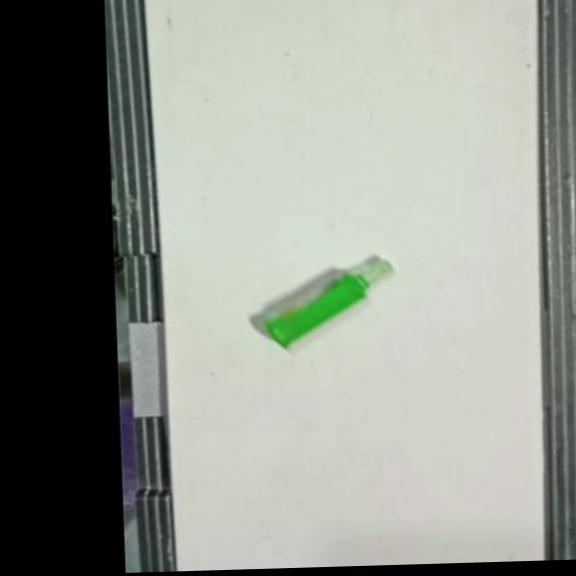Plastik: (261, 259, 397, 351)
